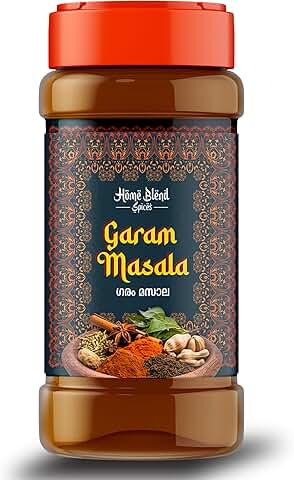Garamasala: (40, 3, 240, 464)
